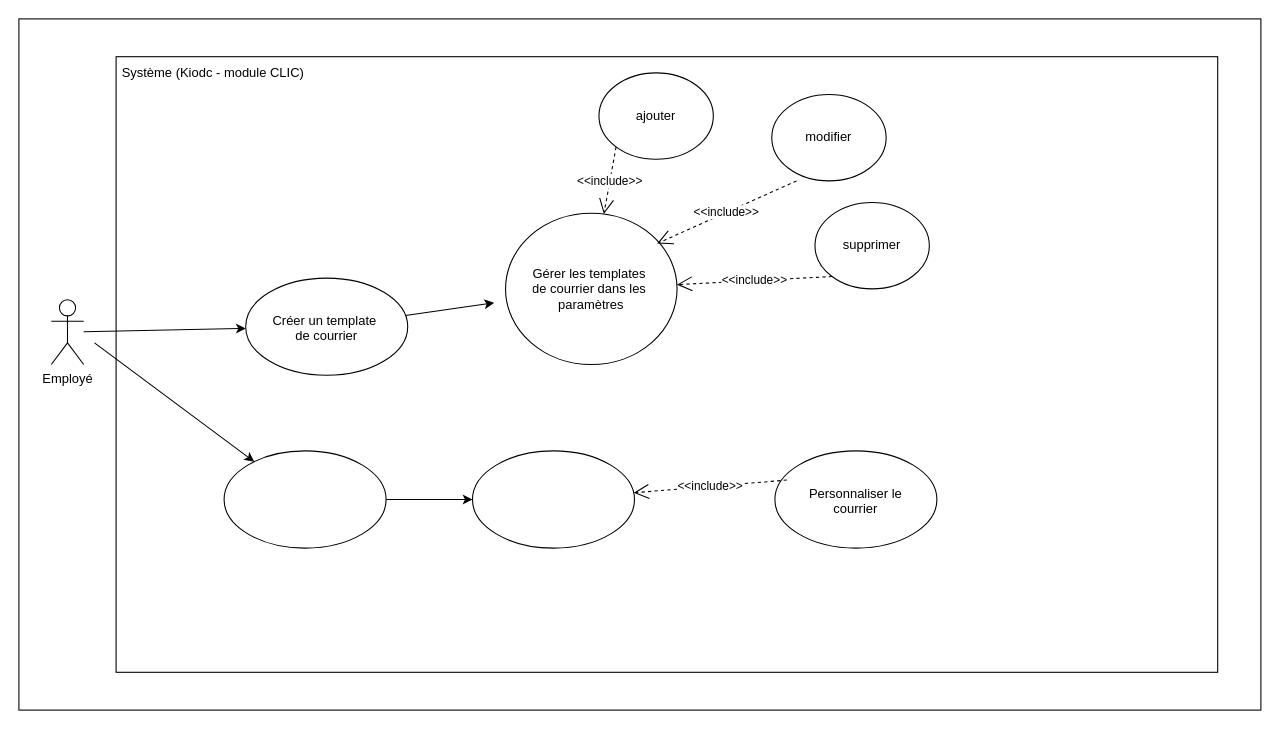
This 1280x729 diagram has some shape labels left out. The shapes that lost their labels are listed below. From the top down, each one's centre as x and y in pixels, then its label:
At point 304,499: "Sélectionner le dossier d'une personne".
At point 552,499: "Choisir le modèle".
